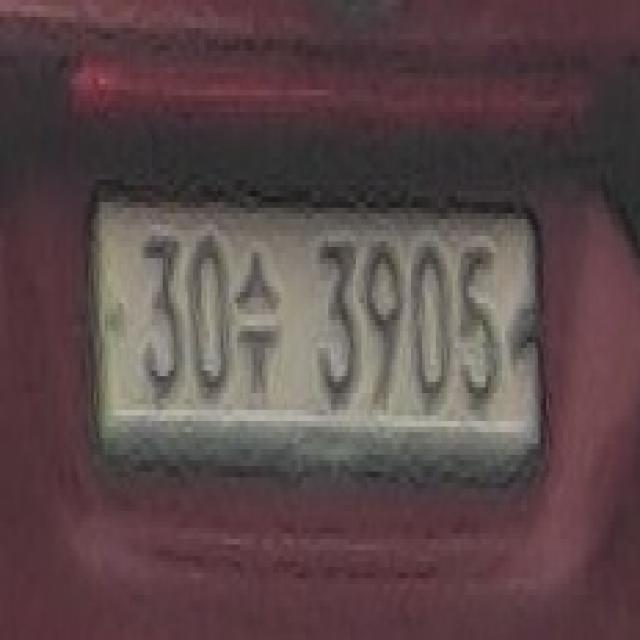0: (185, 230, 229, 404), (411, 241, 450, 410)
3: (138, 230, 188, 404), (314, 242, 362, 404)
5: (455, 236, 505, 415)
9: (362, 241, 406, 410)
license_plate: (89, 185, 544, 460)
su: (232, 235, 281, 398)
